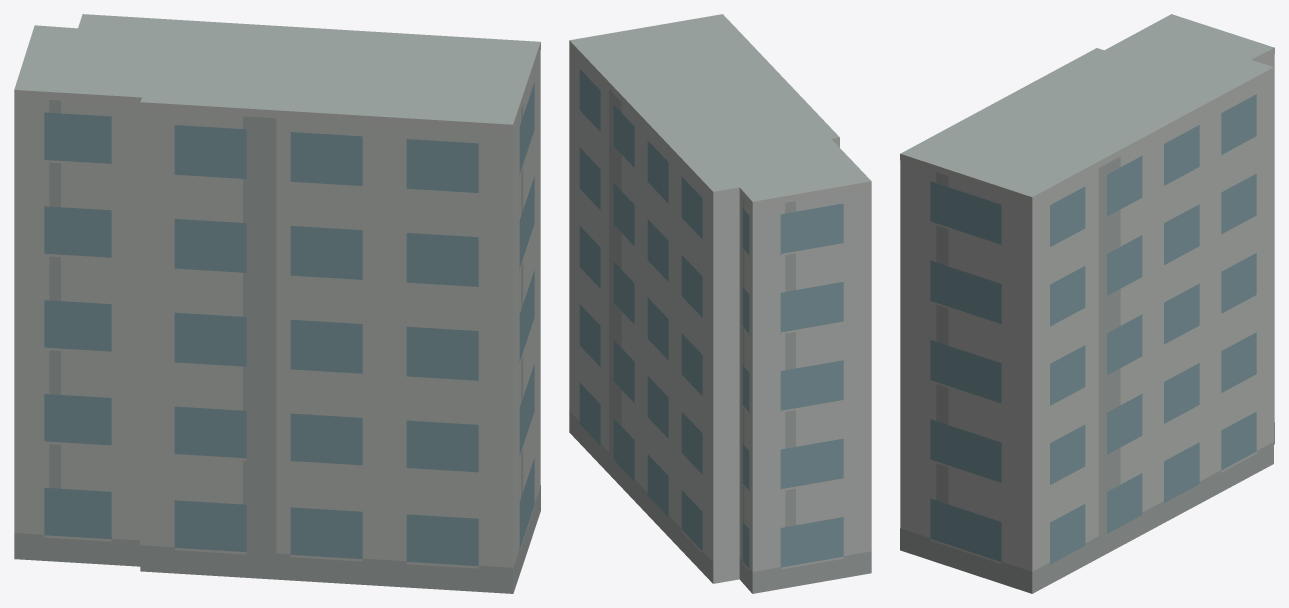
The model's file is survey-upis-32873116.glb.
3 views of the same model, side by side, from view 1: azimuth 30°, elevation 25°; view 2: azimuth 150°, elevation 25°; view 3: azimuth 270°, elevation 25° (orthographic). The views are drawn at different scales.
Visible parts, largest first — view 1: survey-upis-32873116.tmp; view 2: survey-upis-32873116.tmp; view 3: survey-upis-32873116.tmp.
Boxes of the visible parts, x1,y1,x2,y2 form: survey-upis-32873116.tmp: (14, 14, 540, 593); survey-upis-32873116.tmp: (569, 14, 871, 593); survey-upis-32873116.tmp: (900, 14, 1274, 593).
Bounding box in the file's own units: 14.27 × 14.4 × 12.33.
